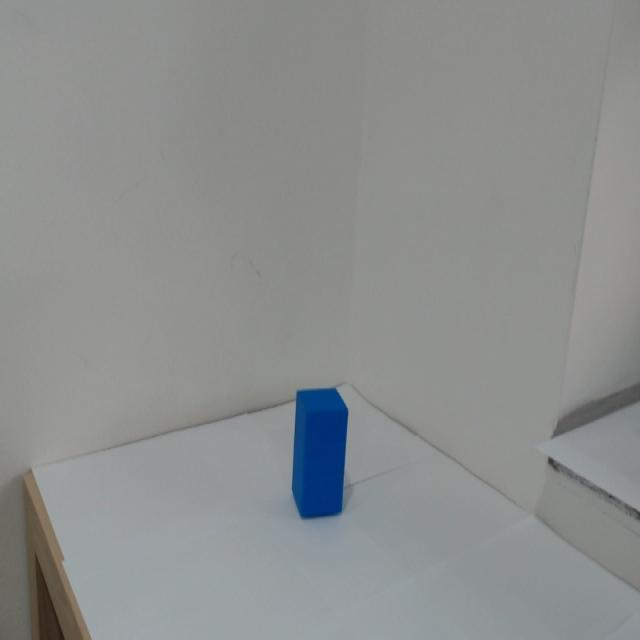cube: (273, 360, 360, 550)
